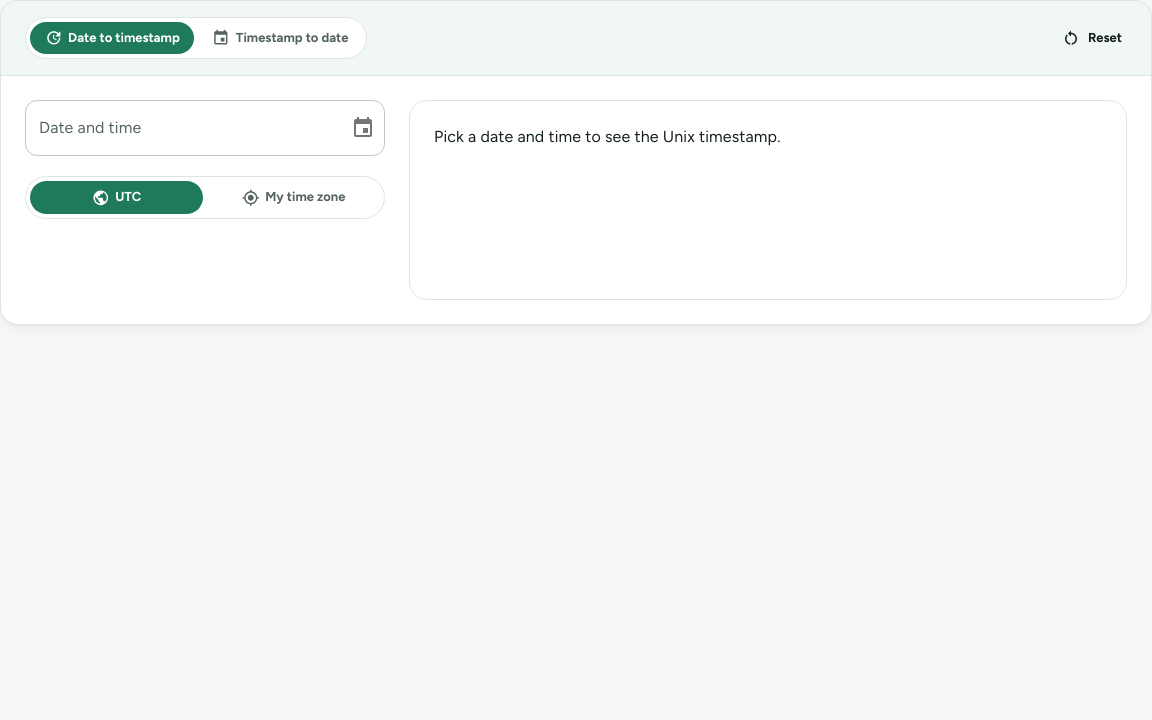
Test: UnixTimestampTool › converts a timestamp to a date as you type
The width and height of the screenshot is (1152, 720).
Click the button "Timestamp to date" at (280, 38), box [198, 22, 362, 54]
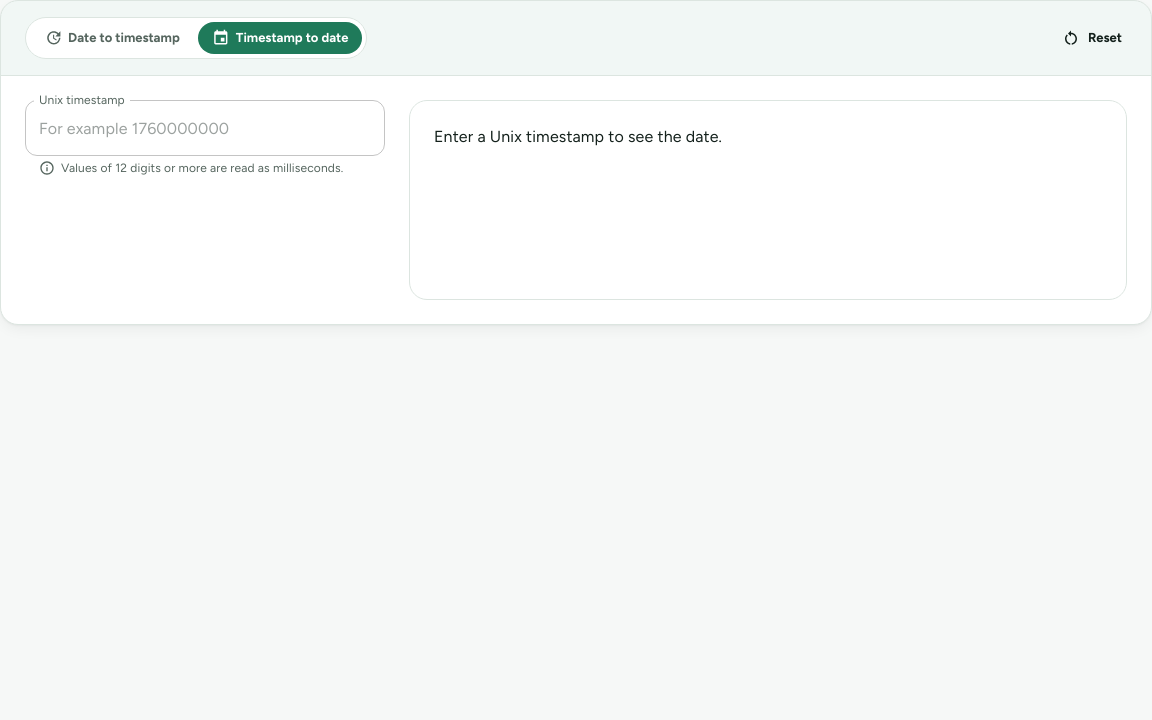
Now the text "Enter a Unix timestamp to see the date." is shown, box [434, 127, 722, 146]
Type "1760000000" into the field labelled "Unix timestamp" at (205, 128), box [25, 100, 385, 156]
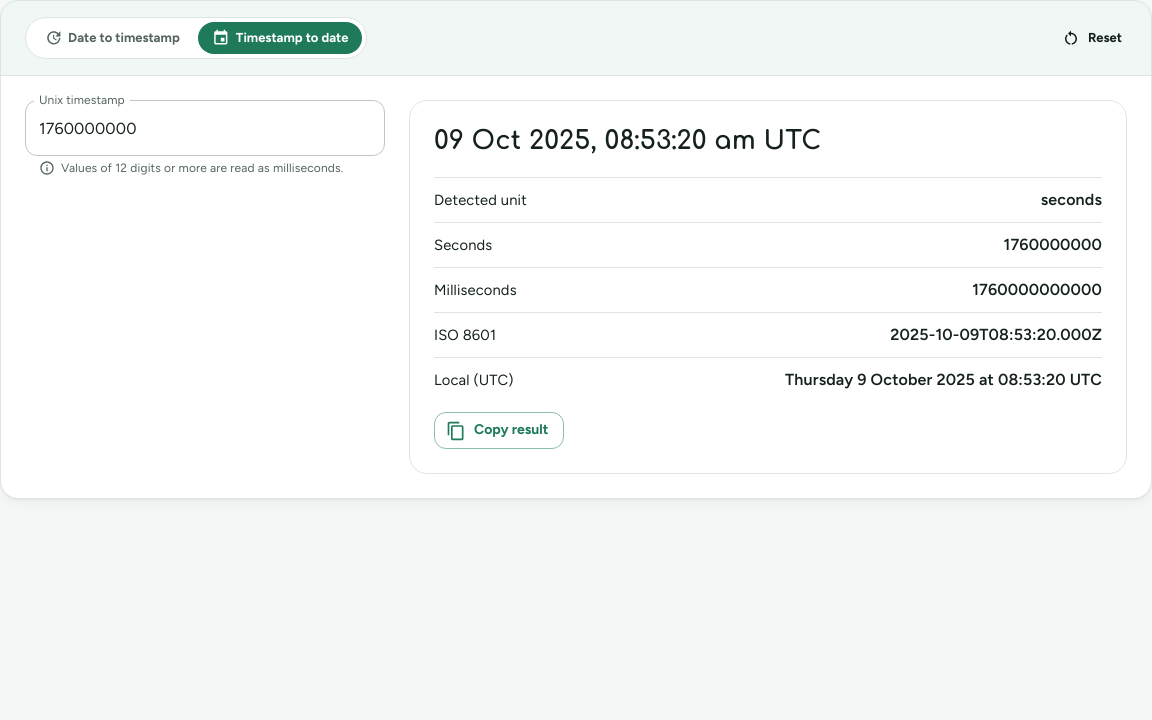
Now the text "09 Oct 2025, 08:53:20 am UTC" is shown, box [434, 126, 821, 155]
Now the text "seconds" is shown, box [1041, 188, 1102, 212]
